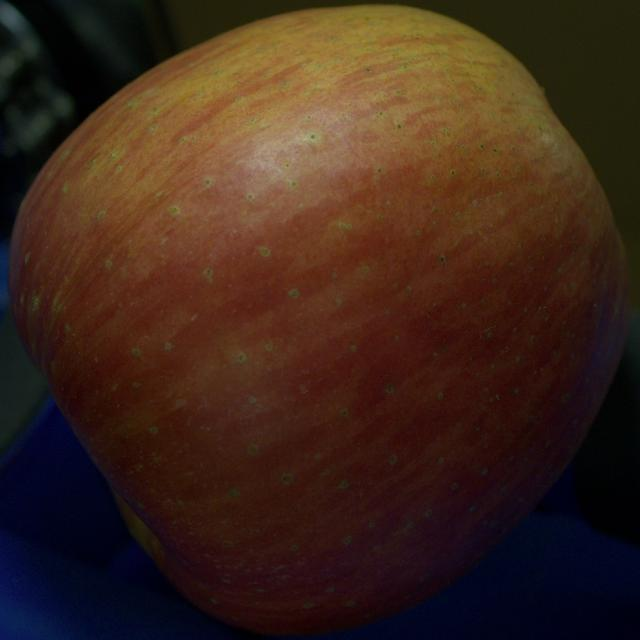apple: (8, 5, 630, 634)
